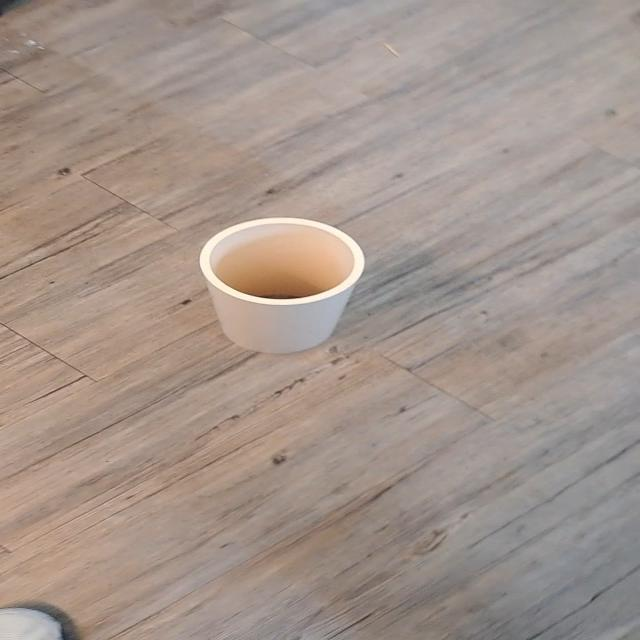CORAL: (172, 196, 395, 374)
